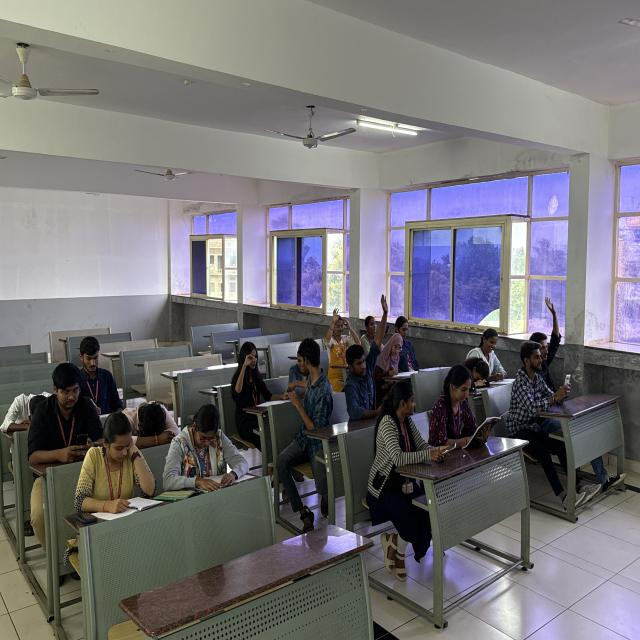Hand Rising: (345, 289, 390, 391), (535, 294, 569, 370), (324, 304, 362, 370), (232, 336, 268, 401)
Reading: (77, 409, 163, 522), (166, 400, 258, 492), (427, 363, 495, 459)
Sleeping: (3, 388, 58, 438)
Using Phone: (376, 377, 456, 497), (26, 361, 106, 468), (510, 337, 574, 448)
Writing: (74, 334, 131, 411), (376, 331, 408, 381)
